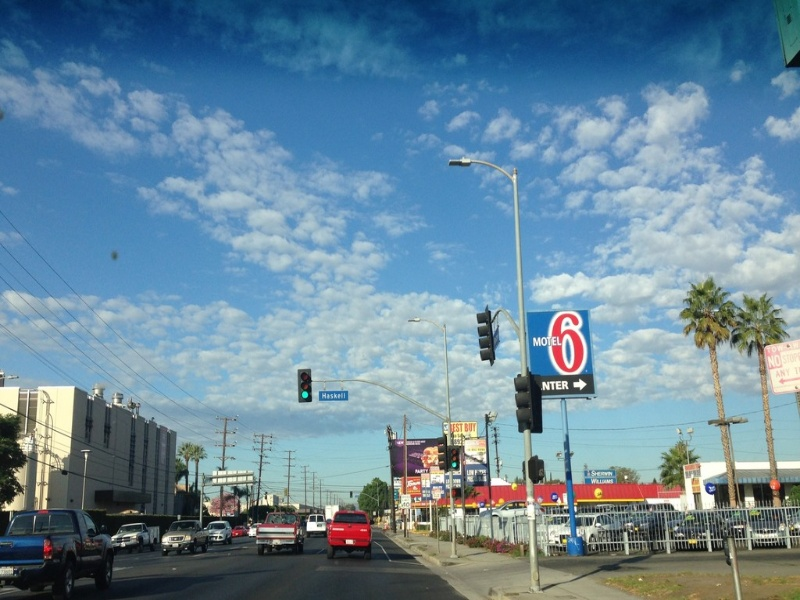green_light: (288, 363, 328, 410)
